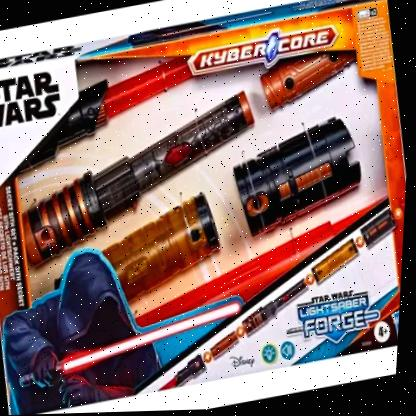person: (19, 56, 191, 171)
sith_lightsaber: (11, 291, 255, 396)
